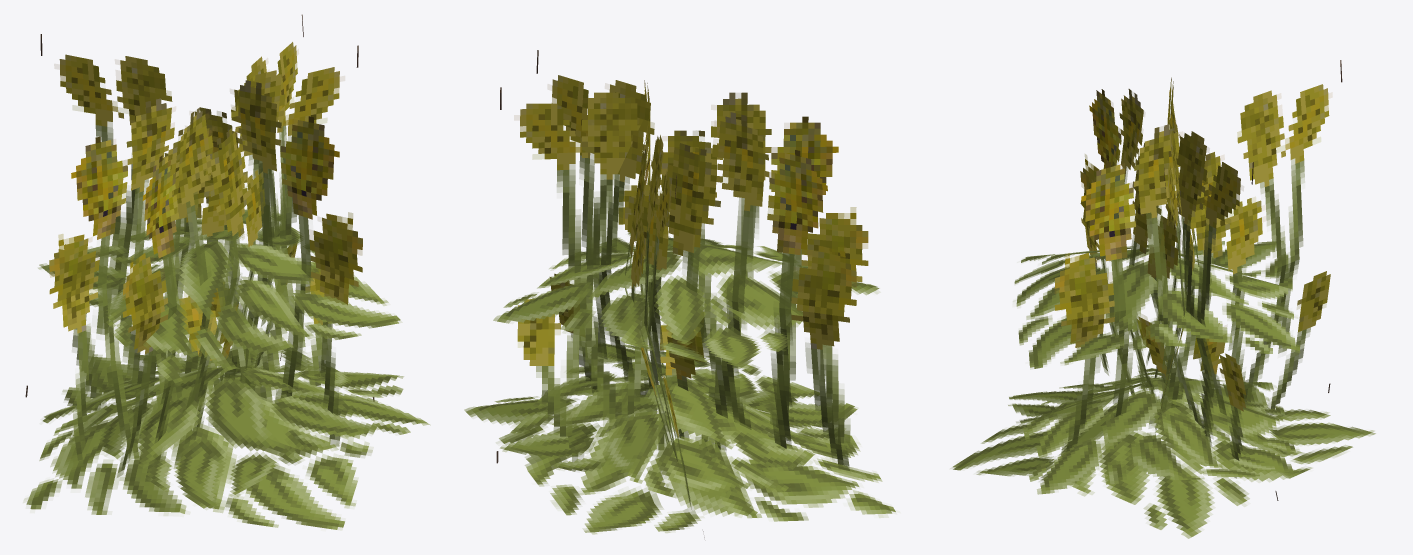
File: flower_yellow.glb
The picture shows the model from 3 angles, left to right: view 1: azimuth 30°, elevation 25°; view 2: azimuth 150°, elevation 25°; view 3: azimuth 270°, elevation 25°; orthographic projection. The views are drawn at different scales.
Visible parts, largest first — view 1: flower_yellow; view 2: flower_yellow; view 3: flower_yellow.
Part boxes in pixels (left/top/right/bottom): flower_yellow: left=23, top=14, right=429, bottom=529; flower_yellow: left=464, top=50, right=895, bottom=537; flower_yellow: left=951, top=60, right=1375, bottom=538.
Bounding box in the file's own units: 0.7077 × 0.617 × 0.7099.
1 material, 1 textured.
